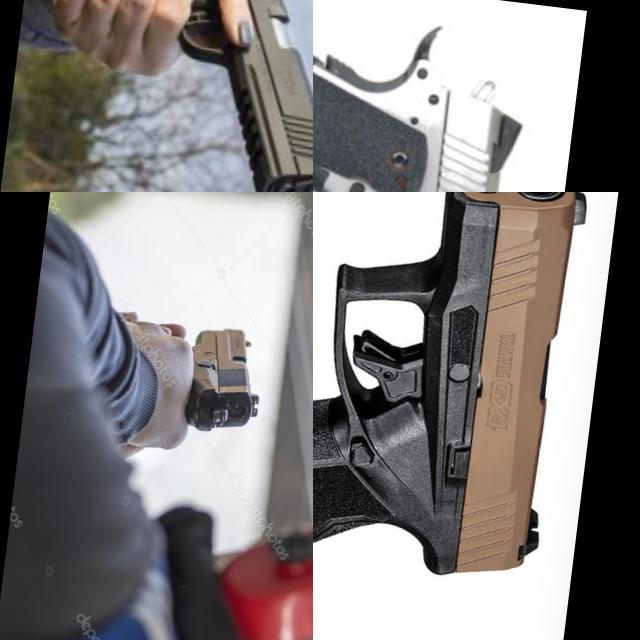handgun: (313, 192, 594, 598), (313, 0, 537, 192), (152, 0, 313, 192), (178, 322, 270, 441)
